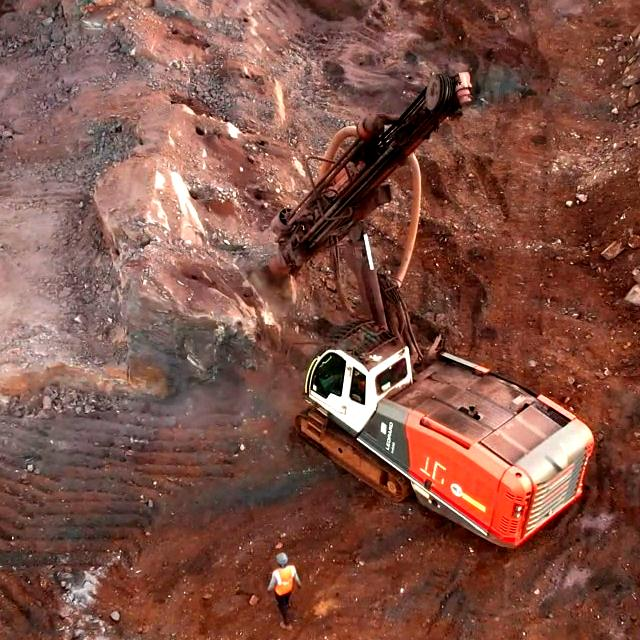Blast rig: (302, 372, 518, 441)
person: (273, 553, 306, 625)
